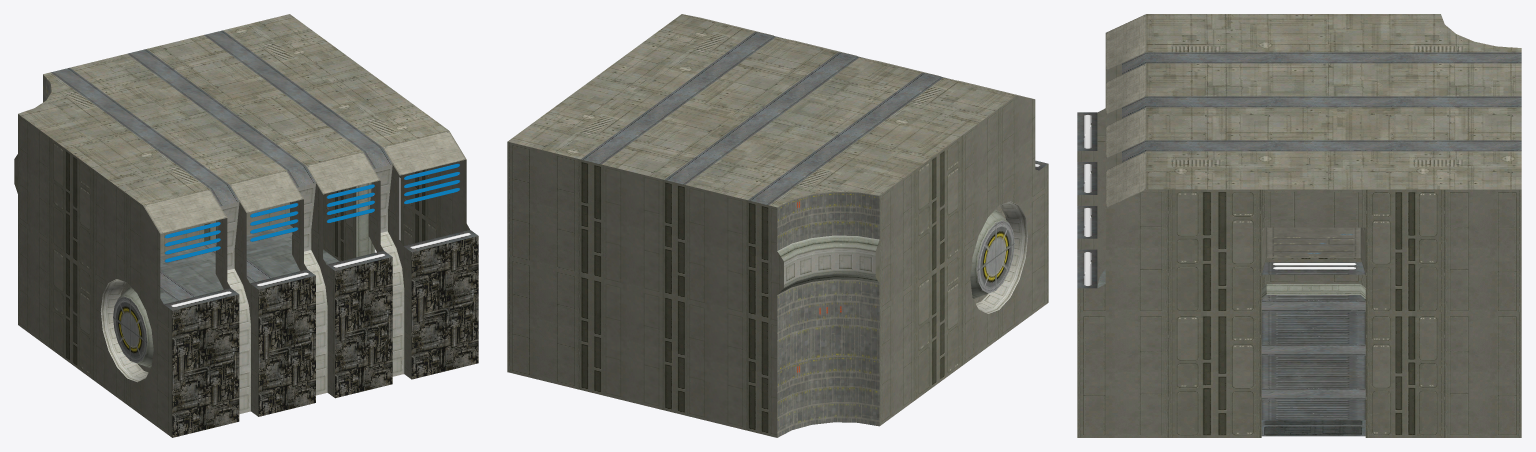
File: thm_tato_lucky_despot_r16_meeting04_mesh_r16.fbx
3 renders of one model, left to right at view 1: azimuth 30°, elevation 25°; view 2: azimuth 150°, elevation 25°; view 3: azimuth 270°, elevation 25°, orthographic. The views are drawn at different scales.
Parts seen in each view (by area): view 1: mesh_node; view 2: mesh_node; view 3: mesh_node.
Boxes of the visible parts, <box> form: mesh_node: <box>14,14,478,437</box>; mesh_node: <box>507,14,1048,437</box>; mesh_node: <box>1077,14,1521,437</box>.
Size of the model in its own units: 8.5 by 5.27 by 8.54.
